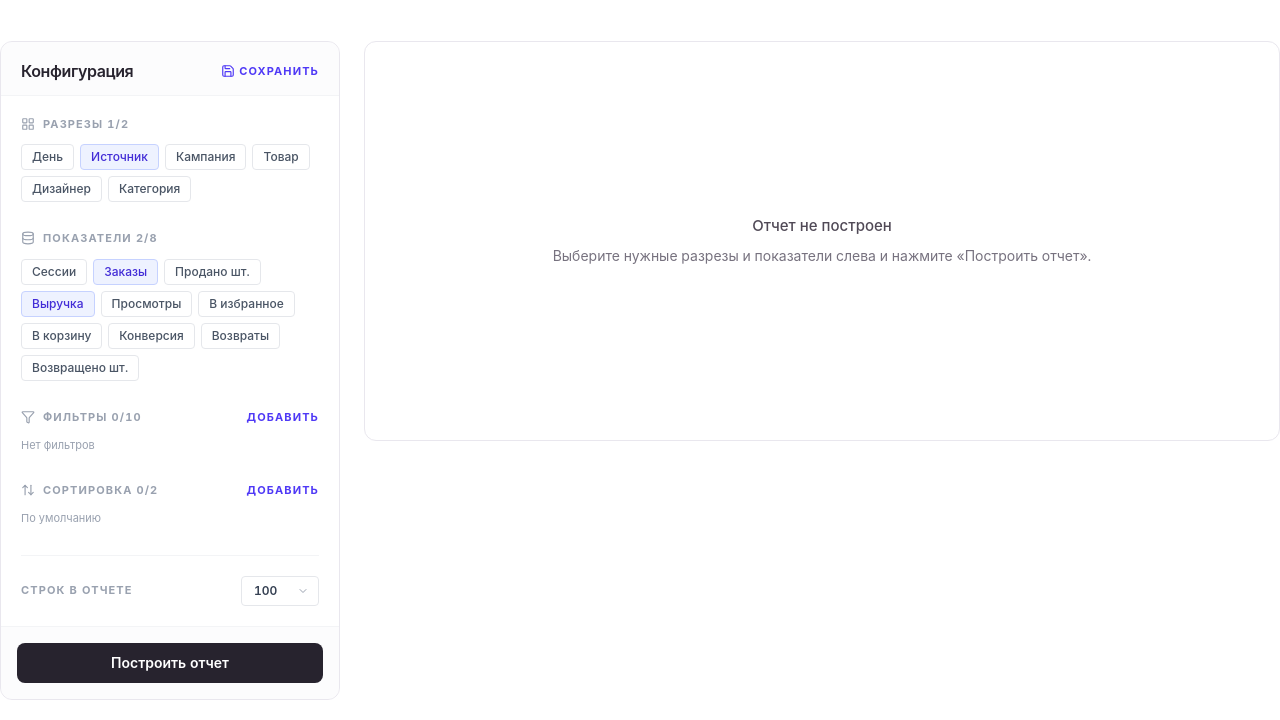
Test: AdminMarketingQueryBuilder — Core Contract Matrix › Matrix 28-31: formats money, numbers, percentage, and dates in Russian format
The width and height of the screenshot is (1280, 720).
(page scrolled)
Click the button "Построить отчет" at (170, 662), box [17, 642, 323, 682]
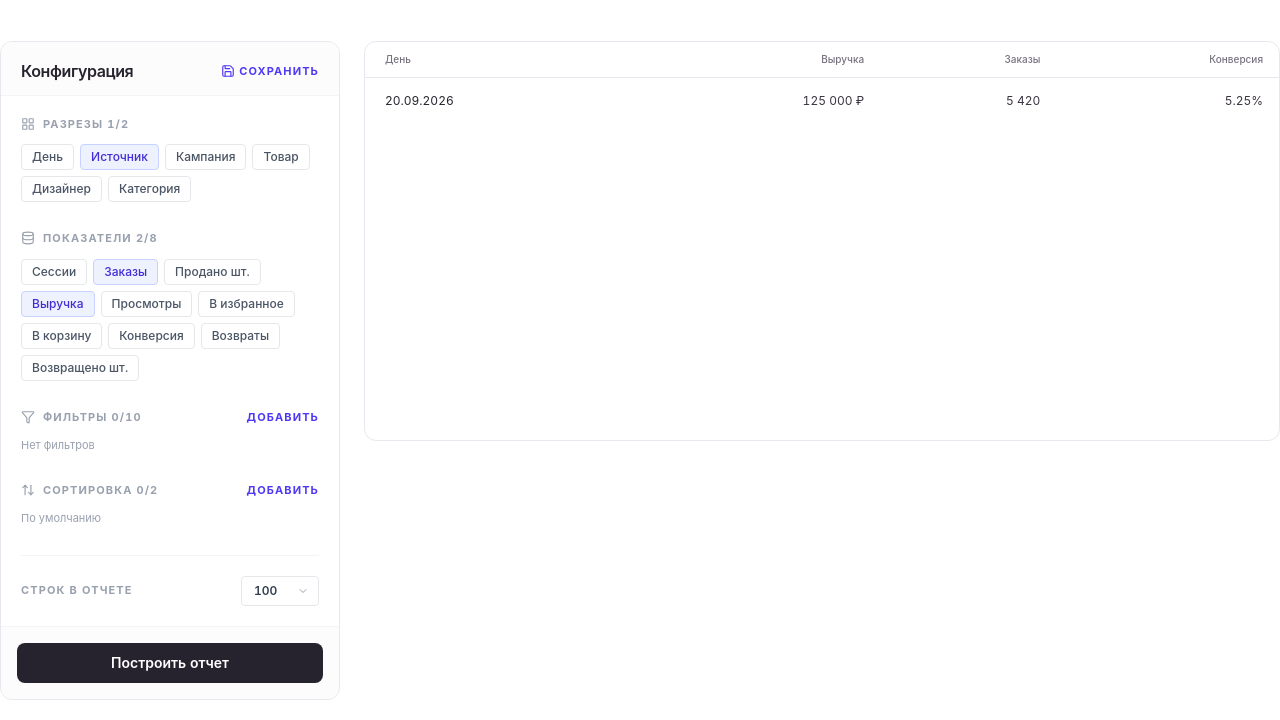
Expected: the text "125 000 ₽" is shown, [637, 77, 880, 124]
Expected: the text "5 420" is shown, [880, 77, 1056, 124]
Expected: the text "5.25%" is shown, [1056, 77, 1279, 124]
